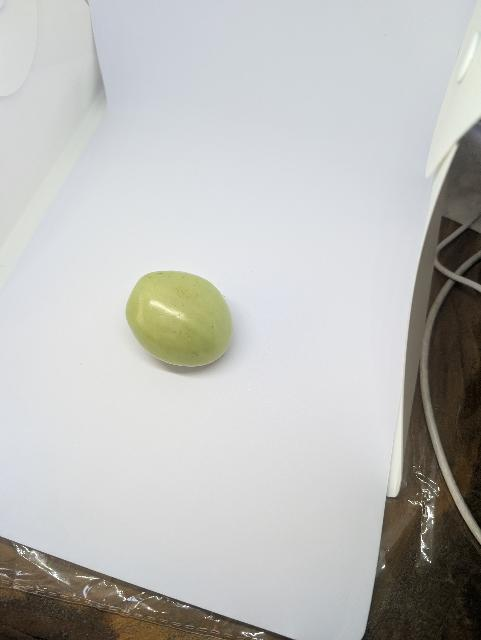green: (117, 261, 242, 376)
